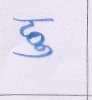u_matra: (12, 43, 56, 60)
